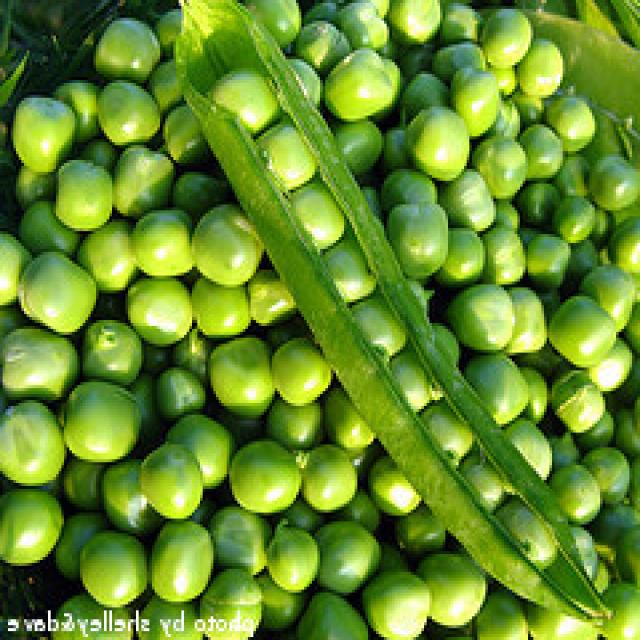Peas: (0, 259, 270, 605), (406, 9, 639, 279), (186, 196, 262, 294), (133, 428, 203, 526), (230, 425, 304, 513), (384, 191, 458, 269), (65, 368, 127, 461), (119, 272, 193, 338), (407, 102, 470, 178)
